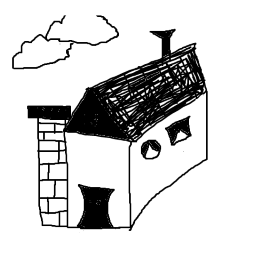chimney: (16, 98, 78, 158), (142, 16, 182, 59)
clouds: (1, 4, 120, 70)
door: (74, 183, 119, 235)
open_window: (163, 109, 196, 151), (135, 136, 167, 170)
shaded_roof: (63, 38, 221, 140)
wall: (62, 129, 145, 238)
